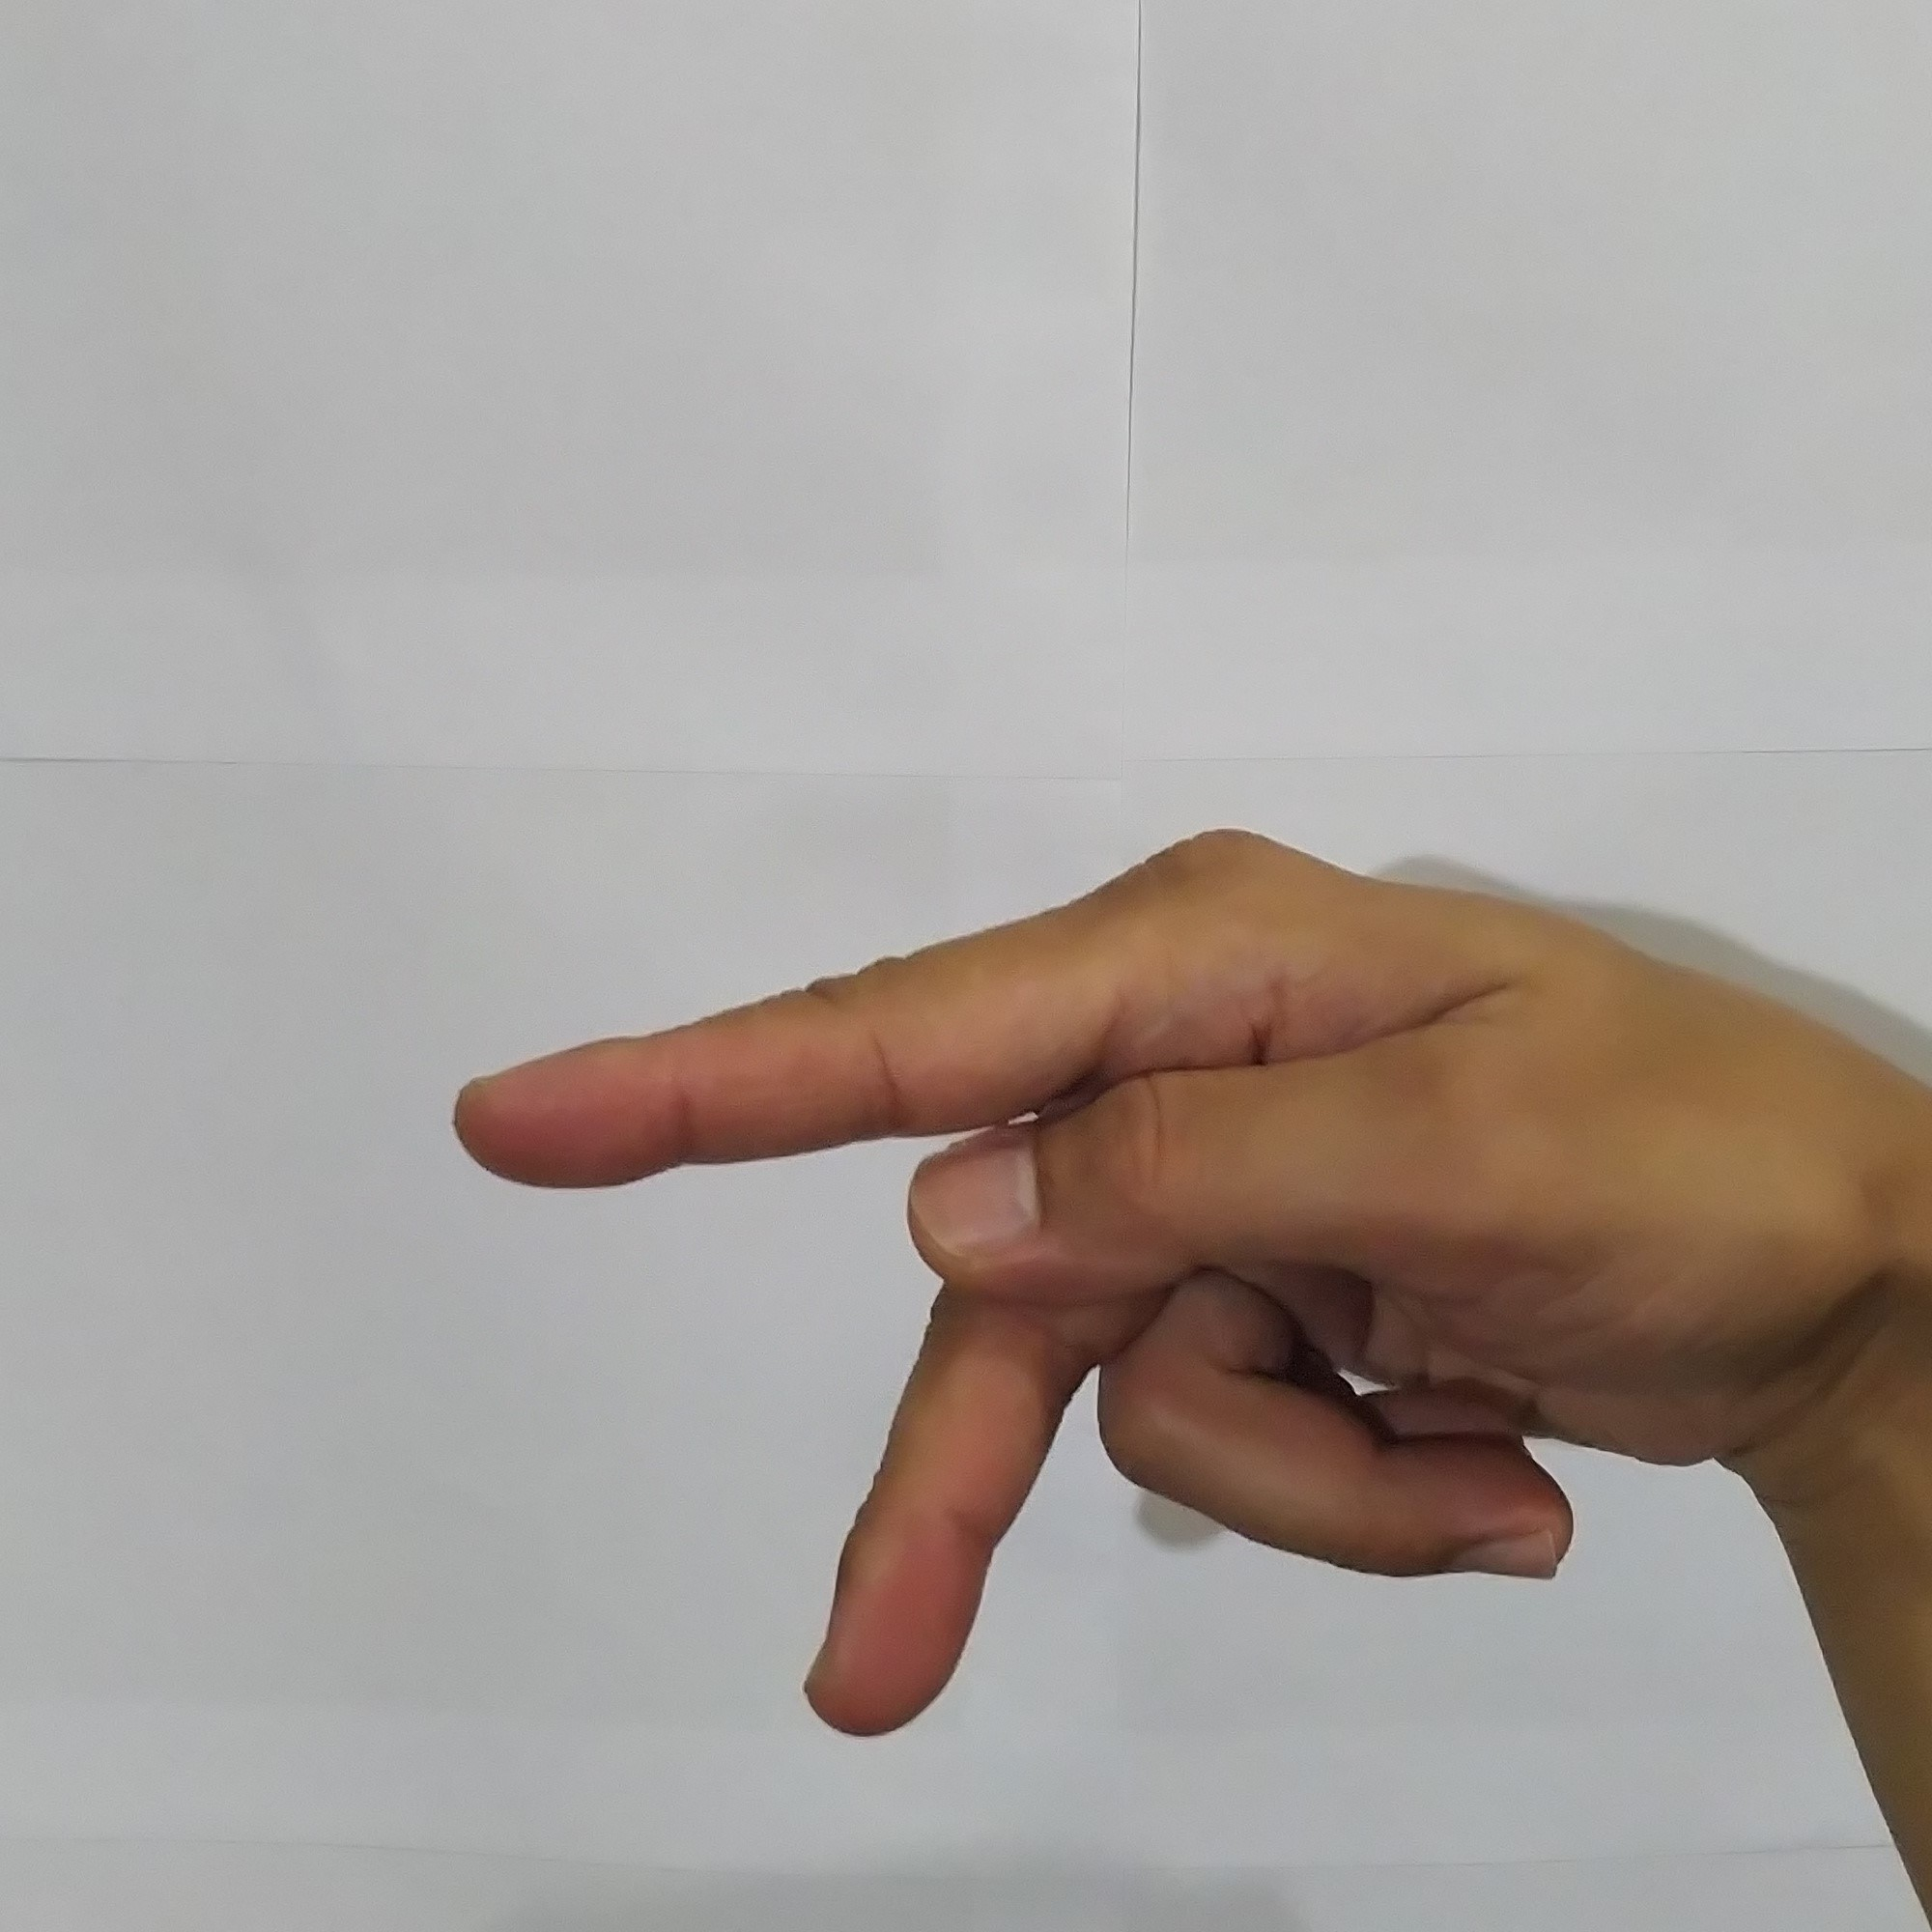P: (416, 805, 1932, 1759)
